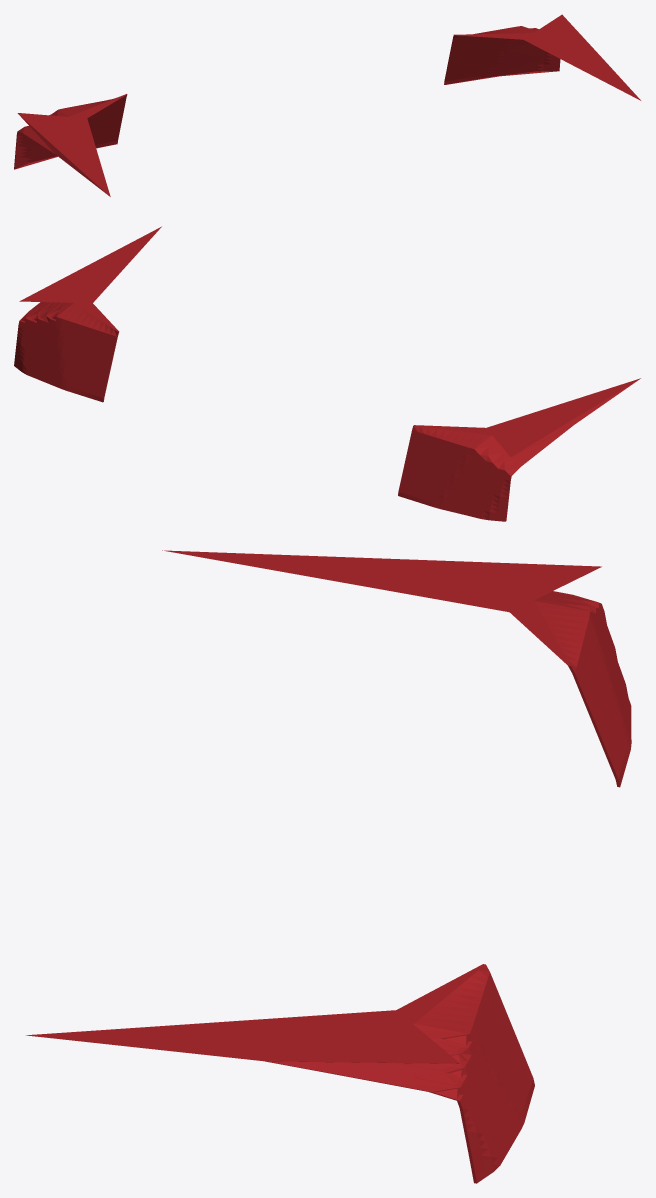
The model's file is car-passat-b7--red.glb.
The picture shows the model from 3 angles, top to bottom: view 1: azimuth 30°, elevation 25°; view 2: azimuth 150°, elevation 25°; view 3: azimuth 270°, elevation 25°; orthographic projection. The views are drawn at different scales.
Parts seen in each view (by area): view 1: car-passat-b7; view 2: car-passat-b7; view 3: car-passat-b7.
Part boxes in pixels (x1,y1,x2,y2): car-passat-b7: [14, 14, 640, 196]; car-passat-b7: [14, 226, 640, 521]; car-passat-b7: [26, 550, 631, 1183].
Bounding box in the file's own units: 1.64 × 0.177 × 0.8196.
